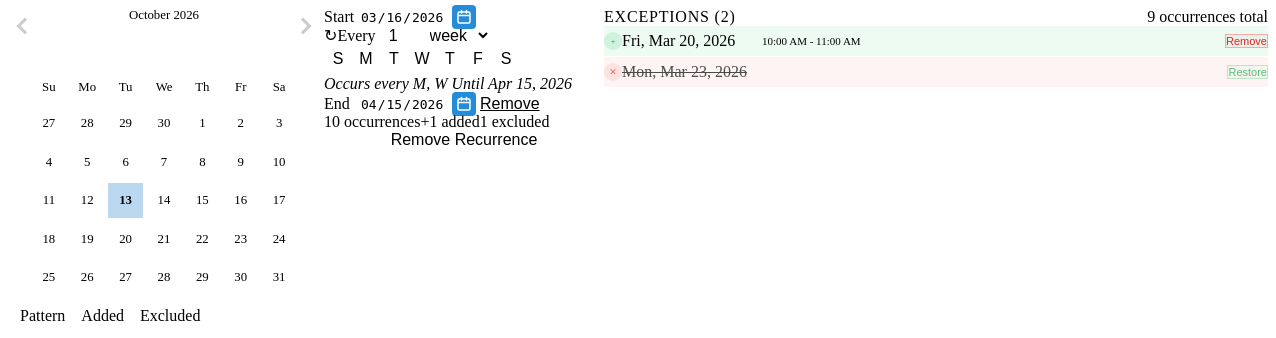
Test case: RecurrenceTabContent › Occurrence Detail Editing › excluded occurrence shows restore action, no editable fields
The width and height of the screenshot is (1276, 338).
Click the element with class "recurrence-occ-main" showing "✕ Mon, Mar 23, 2026 Restore" at {"x": 684, "y": 72}, box left=604, top=57, right=1268, bottom=87
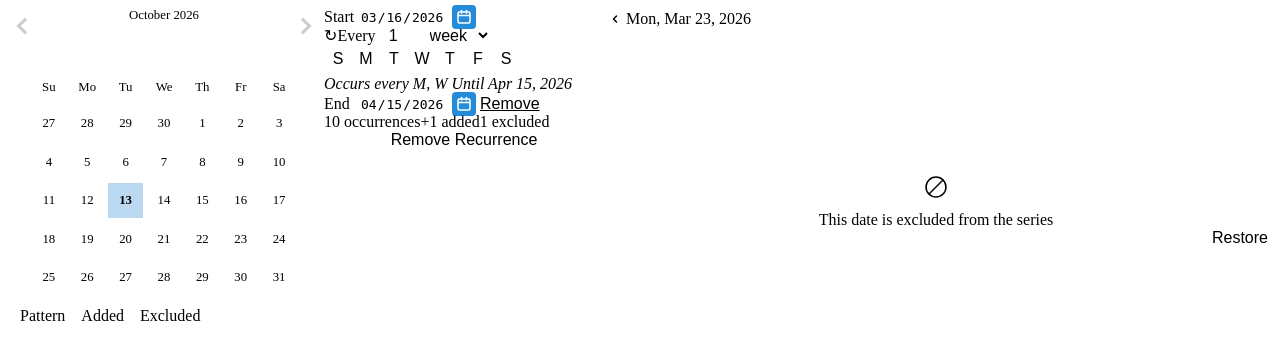
Check: the text "This date is excluded from the series" is shown, box left=819, top=211, right=1053, bottom=229
